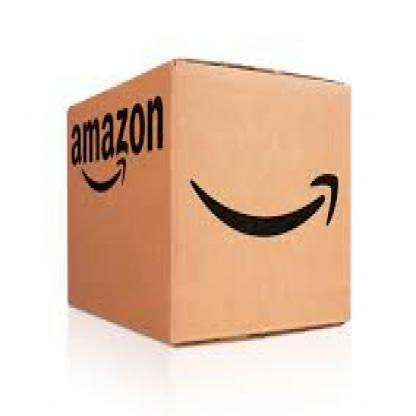package: (64, 55, 353, 352)
